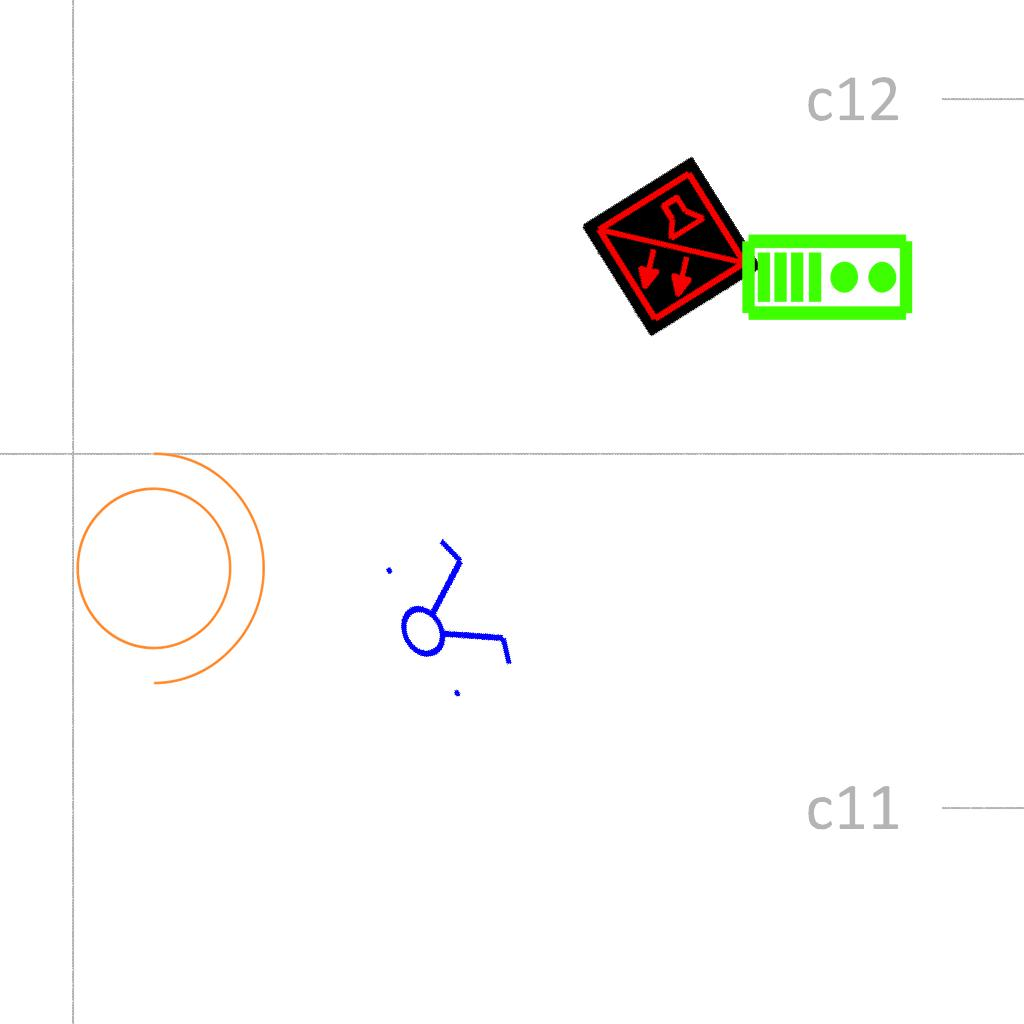Gegensprechanlage_mit_Video: (740, 228, 916, 323)
OKW_Multisensormelder_(Kombination_optischer_Rauch-Kahlenmonoxid_Waerme-Melder): (580, 156, 762, 338)
Scheinwerfer_fuer_Alarmbeleuchtung: (51, 430, 276, 694)
Serienschalter: (362, 521, 528, 715)
